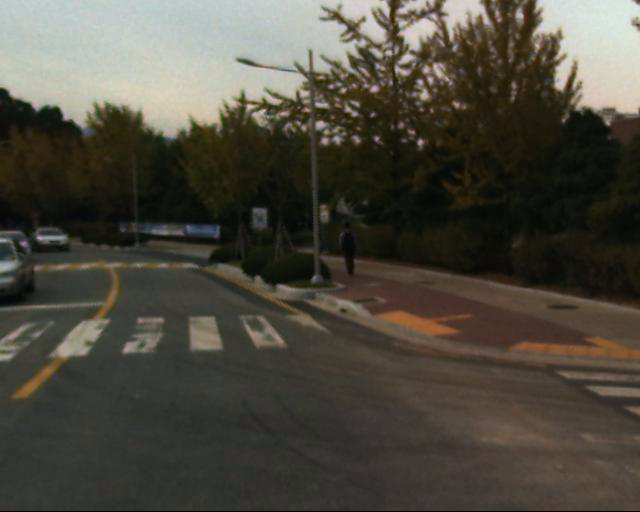person: (338, 217, 362, 277)
